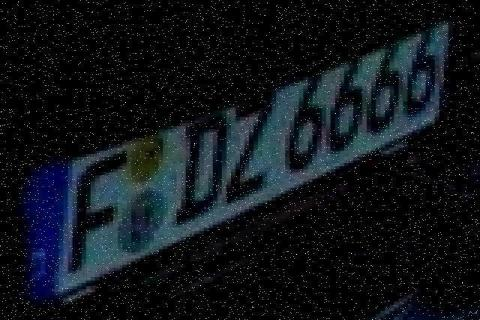LicensePlate: (11, 4, 455, 320)
